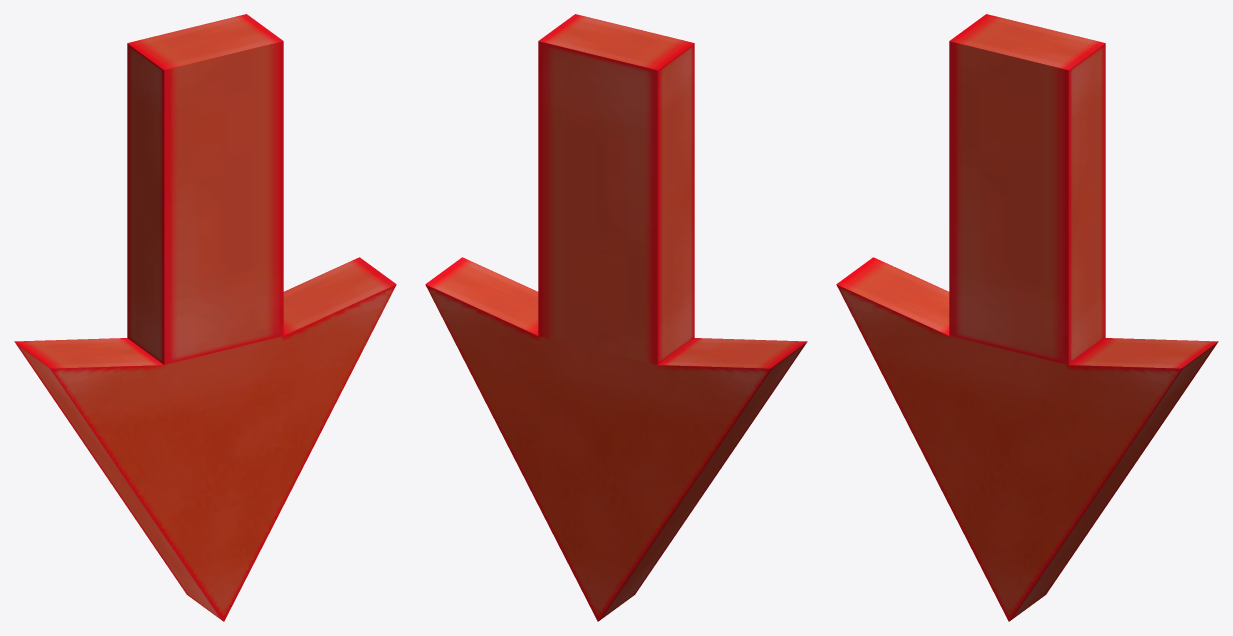
File: World Map Arrow.obj
3 renders of one model, left to right at view 1: azimuth 30°, elevation 25°; view 2: azimuth 150°, elevation 25°; view 3: azimuth 330°, elevation 25°, orthographic.
Visible parts, largest first — view 1: MODELS_bin_025:poly000; view 2: MODELS_bin_025:poly000; view 3: MODELS_bin_025:poly000.
Part boxes in pixels (x1,y1,x2,y2): MODELS_bin_025:poly000: (14, 14, 396, 621); MODELS_bin_025:poly000: (425, 14, 807, 621); MODELS_bin_025:poly000: (836, 14, 1218, 621).
Size of the model in its own units: 2.05 by 3.22 by 0.3828.
1 material, 1 textured.
